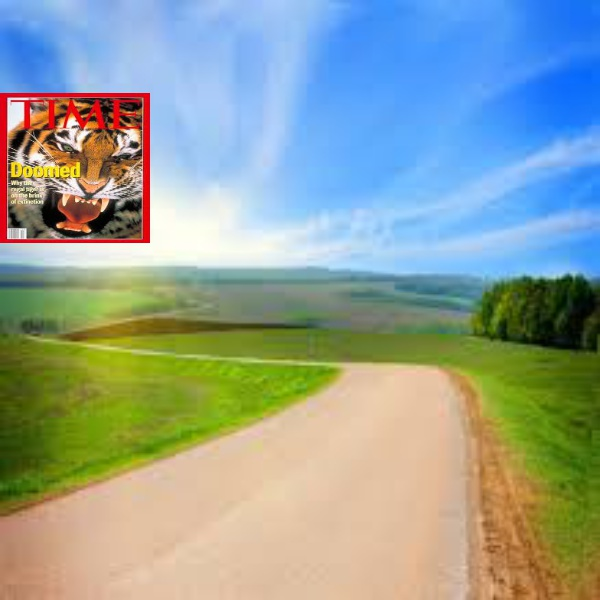time_cover: (4, 87, 153, 243)
